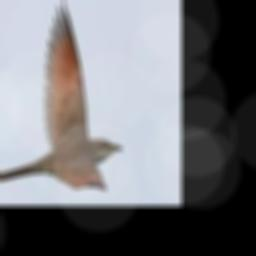Cuckoo: (0, 0, 122, 189)
